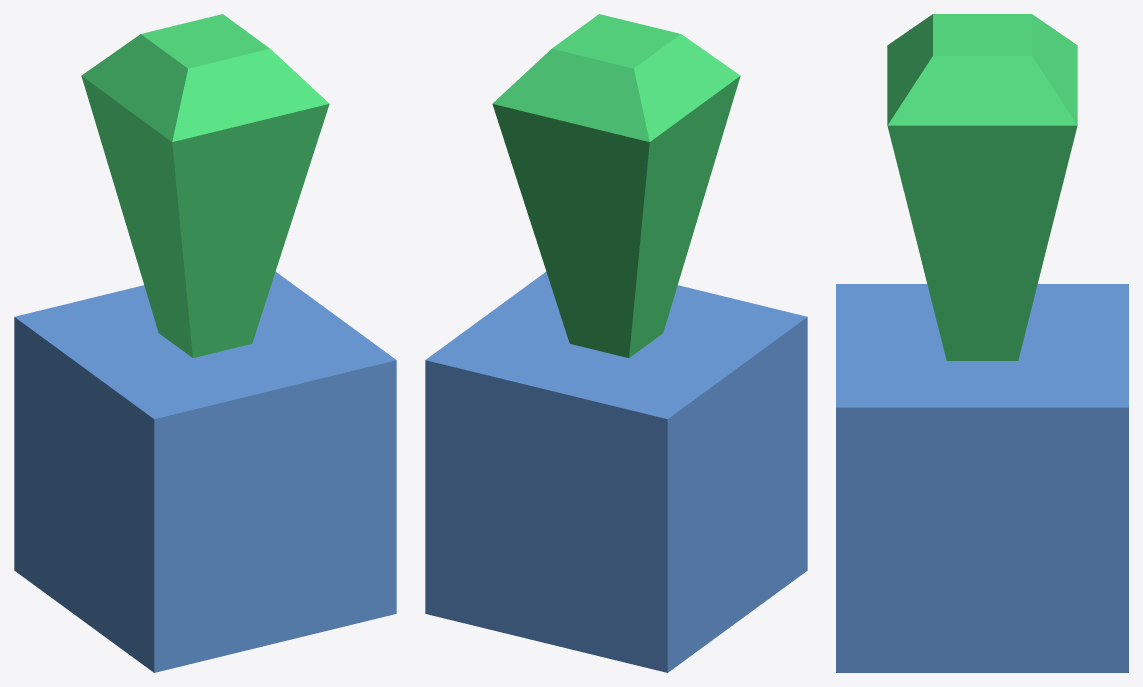
Rendered from Plant_pot.fbx.
The picture shows the model from 3 angles, left to right: view 1: azimuth 30°, elevation 25°; view 2: azimuth 150°, elevation 25°; view 3: azimuth 270°, elevation 25°; orthographic projection. The views are drawn at different scales.
Visible parts, largest first — view 1: Plant pot; view 2: Plant pot; view 3: Plant pot.
Part boxes in pixels (x1,y1,x2,y2): Plant pot: (14, 14, 396, 672); Plant pot: (425, 14, 807, 672); Plant pot: (836, 14, 1128, 672).
Bounding box in the file's own units: 34.85 × 75.66 × 34.85.
